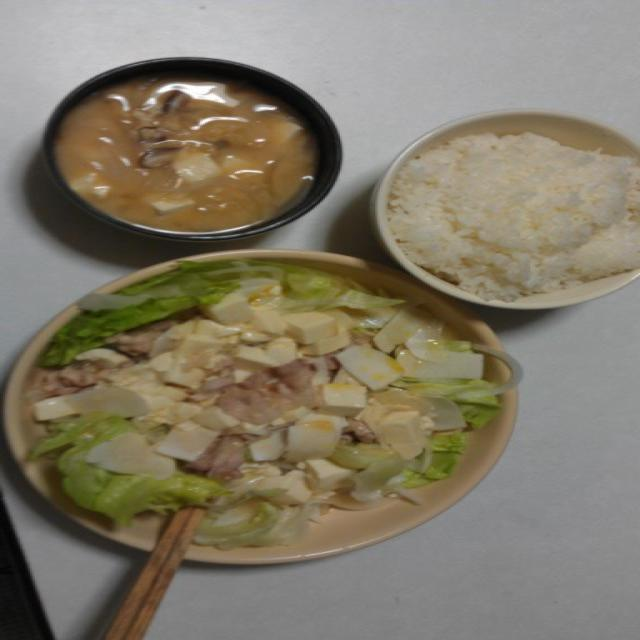Rice: (400, 126, 640, 289)
